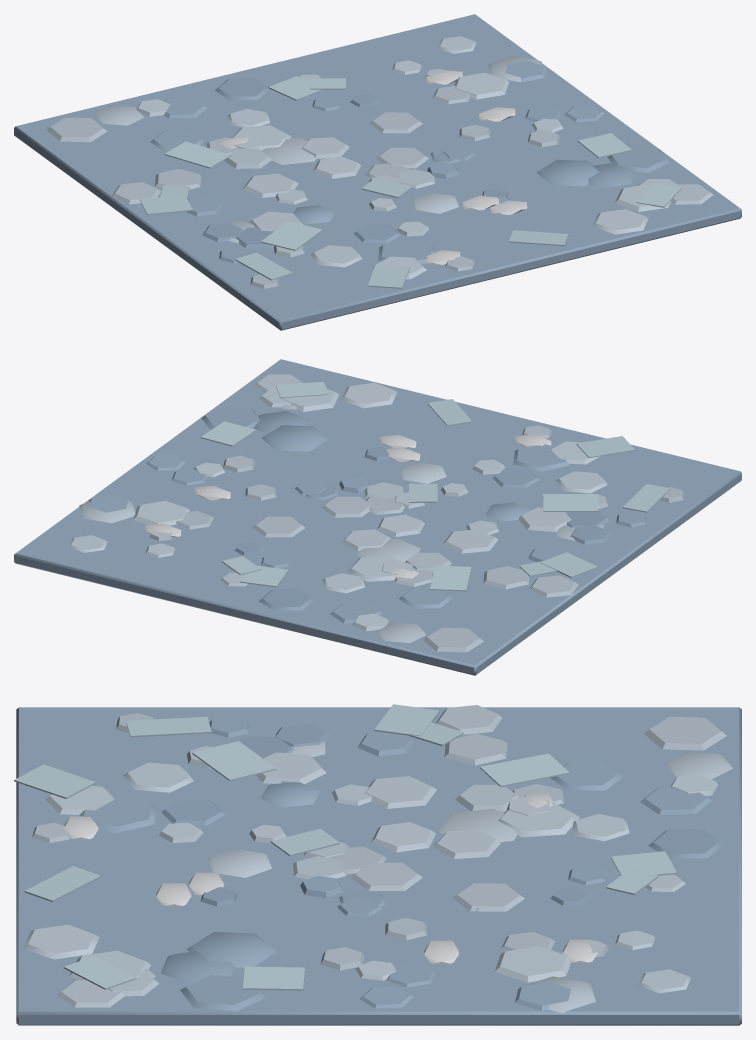
The model's file is cv_eis_floor.glb.
The picture shows the model from 3 angles, top to bottom: view 1: azimuth 30°, elevation 25°; view 2: azimuth 150°, elevation 25°; view 3: azimuth 270°, elevation 25°; orthographic projection. The views are drawn at different scales.
Visible parts, largest first — view 1: body; view 2: body; view 3: body.
Part boxes in pixels (left/top/right/bottom): body: left=14, top=14, right=741, bottom=330; body: left=14, top=359, right=741, bottom=675; body: left=14, top=704, right=741, bottom=1025.
Bounding box in the file's own units: 14 × 0.4431 × 14.05.
